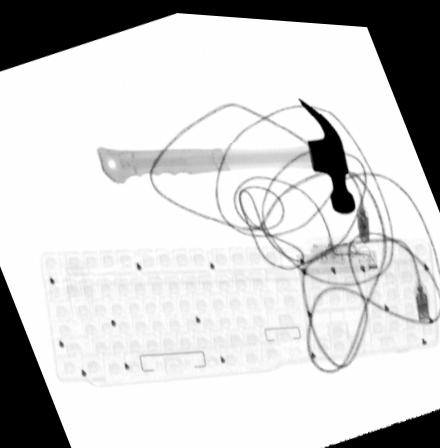Hammer: (97, 93, 356, 208)
